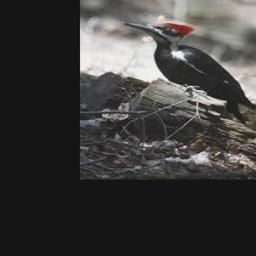Woodpecker: (125, 20, 256, 121)
